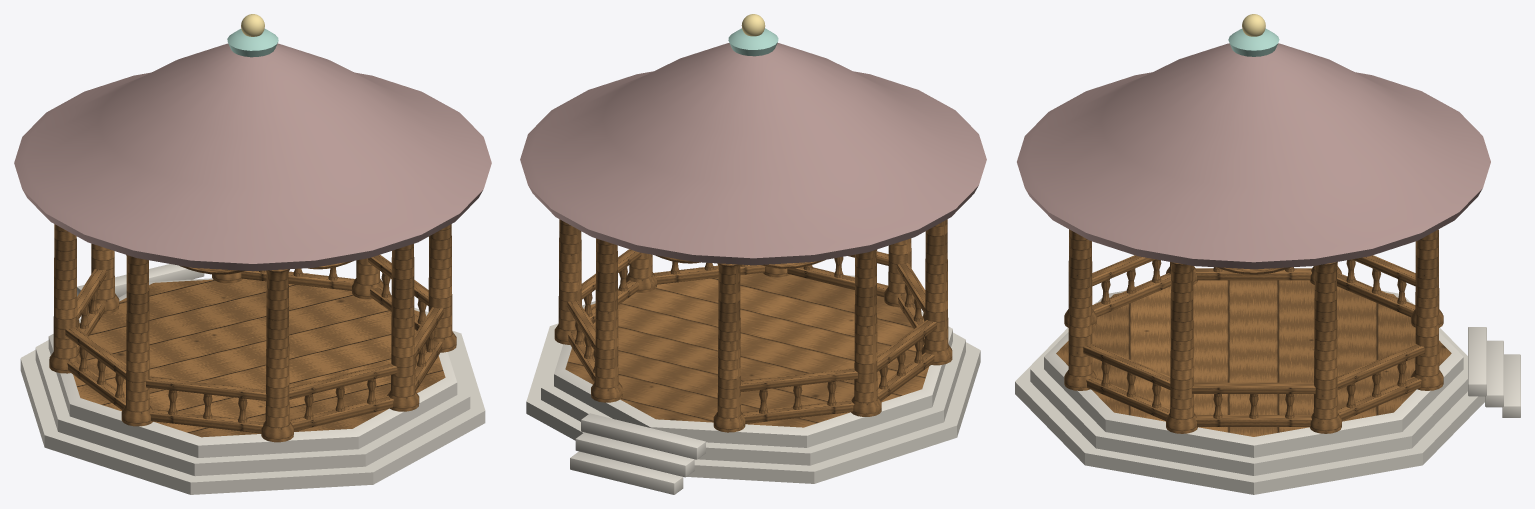
File: th36_musikpavillon.glb
3 renders of one model, left to right at view 1: azimuth 30°, elevation 25°; view 2: azimuth 150°, elevation 25°; view 3: azimuth 270°, elevation 25°, orthographic. The views are drawn at different scales.
Parts seen in each view (by area): view 1: Dach, Podest, Circle, Saeule.005, Saeule.004, Saeule.006, Saeule.003, Saeule.007, Cube.007, Cube.009, Cube.006, Cube.008 (+10 smaller); view 2: Dach, Circle, Podest, Saeule.002, Saeule.003, Saeule.001, Saeule.004, Cube.015, Saeule, Cube.016, Cube.017, Cube.003 (+11 smaller); view 3: Dach, Podest, Circle, Saeule.007, Saeule, Saeule.001, Saeule.006, Cube.013, Cube.015, Cube.012, Cube.001, Cube.011 (+10 smaller).
Boxes of the visible parts, bbox=[...] form: Dach: bbox=[14, 43, 491, 271]; Podest: bbox=[20, 273, 485, 494]; Circle: bbox=[73, 279, 445, 437]; Saeule.005: bbox=[261, 269, 293, 442]; Saeule.004: bbox=[121, 255, 152, 426]; Saeule.006: bbox=[387, 244, 419, 411]; Saeule.003: bbox=[49, 224, 80, 373]; Saeule.007: bbox=[425, 224, 456, 352]; Cube.007: bbox=[146, 376, 266, 400]; Cube.009: bbox=[289, 363, 397, 399]; Cube.006: bbox=[149, 409, 264, 433]; Cube.008: bbox=[289, 395, 393, 431]; Dach: bbox=[520, 43, 986, 265]; Circle: bbox=[565, 272, 929, 427]; Podest: bbox=[526, 267, 980, 483]; Saeule.002: bbox=[713, 263, 745, 432]; Saeule.003: bbox=[851, 249, 881, 416]; Saeule.001: bbox=[591, 238, 622, 402]; Saeule.004: bbox=[921, 219, 952, 365]; Cube.015: bbox=[581, 413, 705, 459]; Saeule: bbox=[554, 219, 584, 344]; Cube.016: bbox=[575, 432, 694, 477]; Cube.017: bbox=[570, 451, 683, 494]; Cube.003: bbox=[740, 368, 857, 392]; Dach: bbox=[1017, 43, 1490, 269]; Podest: bbox=[1015, 290, 1484, 494]; Circle: bbox=[1056, 280, 1451, 436]; Saeule.007: bbox=[1166, 262, 1197, 433]; Saeule: bbox=[1309, 262, 1341, 433]; Saeule.001: bbox=[1411, 230, 1443, 390]; Saeule.006: bbox=[1064, 229, 1096, 390]; Cube.013: bbox=[1192, 382, 1315, 393]; Cube.015: bbox=[1468, 327, 1486, 396]; Cube.012: bbox=[1195, 415, 1311, 426]; Cube.001: bbox=[1337, 344, 1424, 389]; Cube.011: bbox=[1083, 343, 1170, 389].
Size of the model in its own units: 5.6 by 4.9 by 5.93.
Materials: 5 (1 with a texture image).
